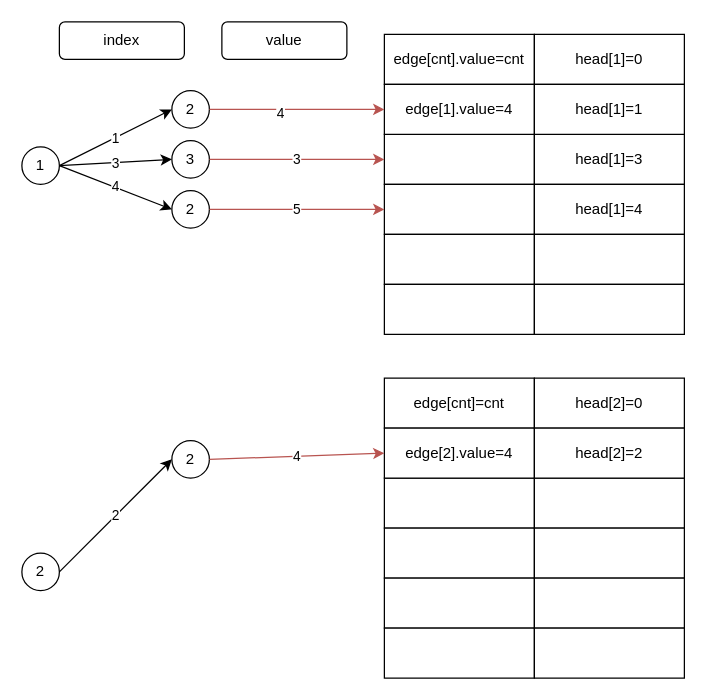
Image size: 706x700. Some labels were removed from this diagram. Each missing label, with the centre of its shape:
"edge[3].value=3" belongs at pixel 458 158.
"edge[4].value=3" belongs at pixel 458 208.
